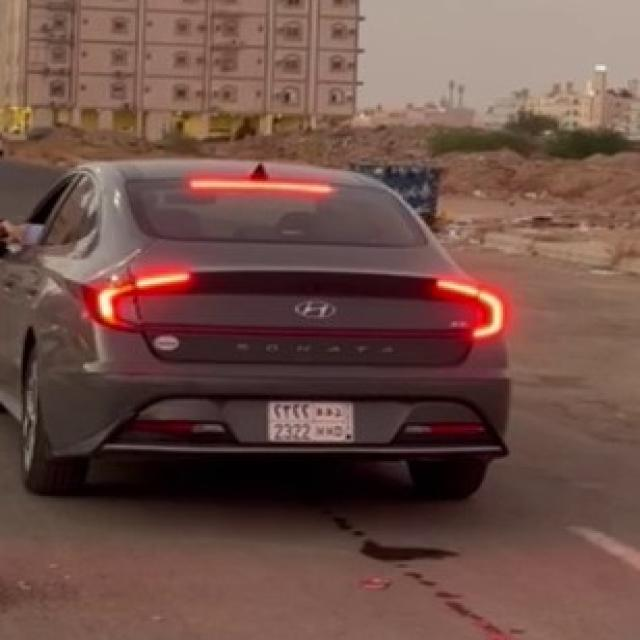Car-plate: (261, 385, 365, 454)
